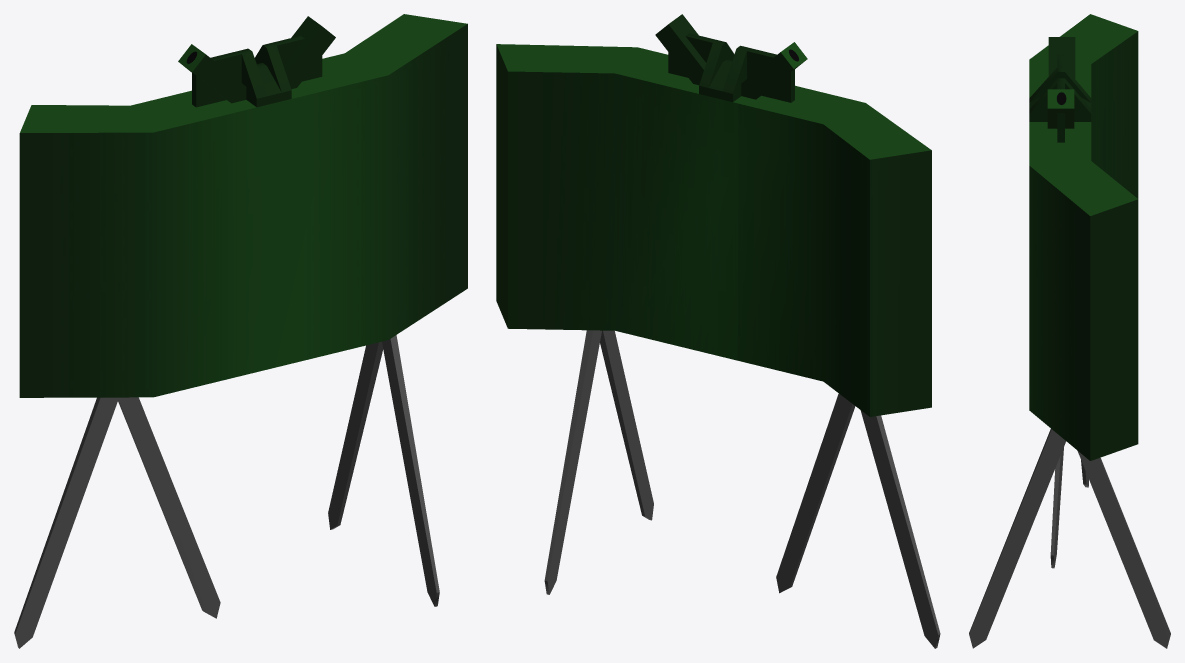
Rendered from Claymore.FBX.
3 views of the same model, side by side, from view 1: azimuth 30°, elevation 25°; view 2: azimuth 150°, elevation 25°; view 3: azimuth 270°, elevation 25° (orthographic). The views are drawn at different scales.
Parts seen in each view (by area): view 1: Box001; view 2: Box001; view 3: Box001.
Part boxes in pixels (box(x1,y1,x2,y2)): Box001: box(14, 14, 467, 648); Box001: box(496, 14, 940, 648); Box001: box(969, 14, 1170, 648).
Size of the model in its own units: 28.79 by 34.38 by 11.96.
Materials: 1 (1 with a texture image).
